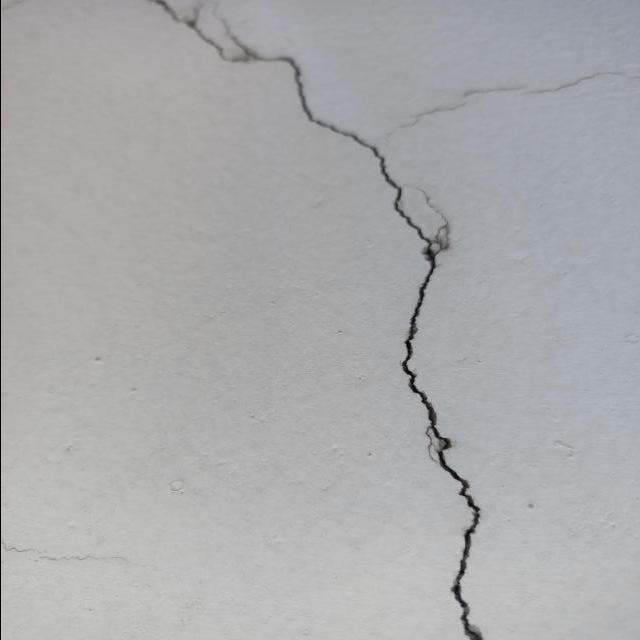SurfaceCrack: (181, 2, 535, 640)
